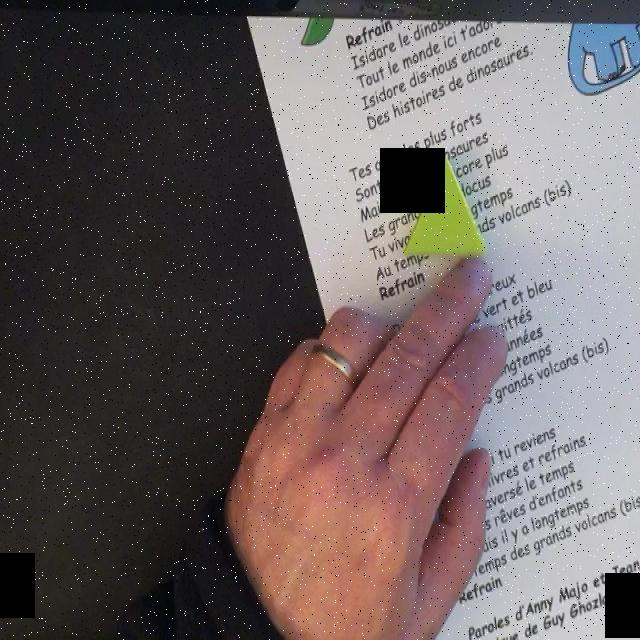triangle: (403, 154, 490, 258)
